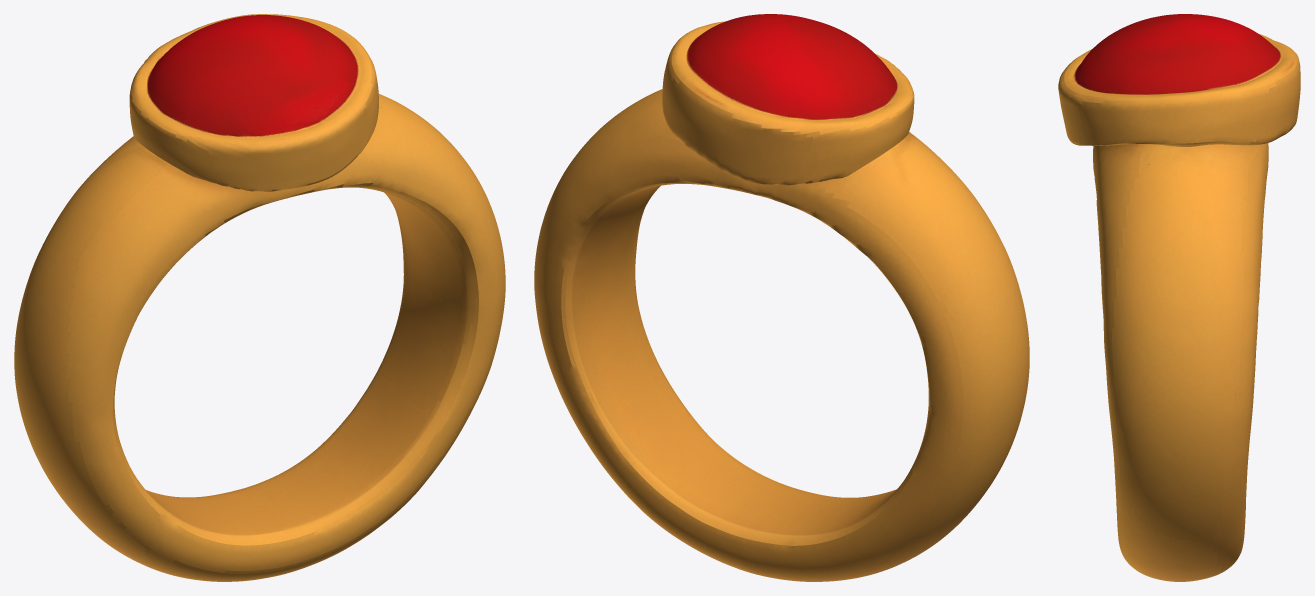
Rendered from ring.glb.
The picture shows the model from 3 angles, left to right: view 1: azimuth 30°, elevation 25°; view 2: azimuth 150°, elevation 25°; view 3: azimuth 270°, elevation 25°; orthographic projection.
Parts seen in each view (by area): view 1: Mesh0; view 2: Mesh0; view 3: Mesh0.
Part boxes in pixels (bbox=[...]): Mesh0: bbox=[14, 14, 505, 581]; Mesh0: bbox=[534, 14, 1029, 581]; Mesh0: bbox=[1058, 14, 1300, 581].
Bounding box in the file's own units: 1.73 × 1.9 × 0.7885.
1 material, 1 textured.
